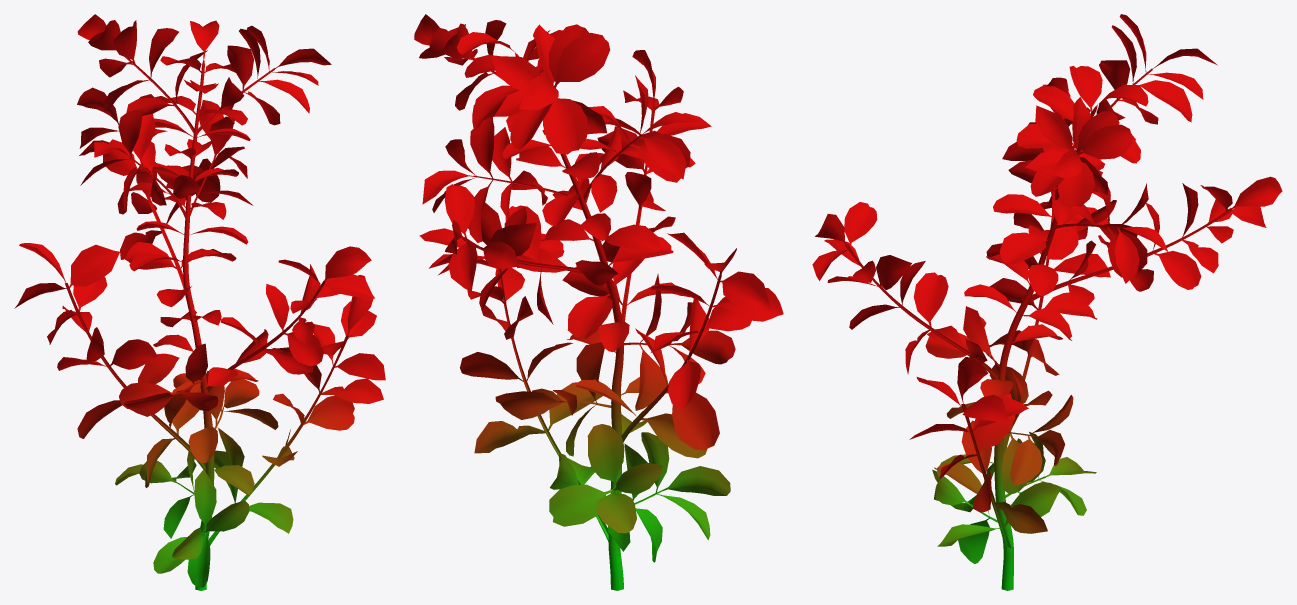
File: Var7_LOD0.fbx
The picture shows the model from 3 angles, left to right: view 1: azimuth 30°, elevation 25°; view 2: azimuth 150°, elevation 25°; view 3: azimuth 270°, elevation 25°; orthographic projection. The views are drawn at different scales.
Visible parts, largest first — view 1: _iwwr_Var7_LOD0; view 2: _iwwr_Var7_LOD0; view 3: _iwwr_Var7_LOD0.
Boxes of the visible parts, left/top/right/bottom form: _iwwr_Var7_LOD0: left=14, top=14, right=385, bottom=590; _iwwr_Var7_LOD0: left=414, top=14, right=783, bottom=590; _iwwr_Var7_LOD0: left=812, top=14, right=1282, bottom=590.
Bounding box in the file's own units: 54.78 × 85.88 × 65.85.
